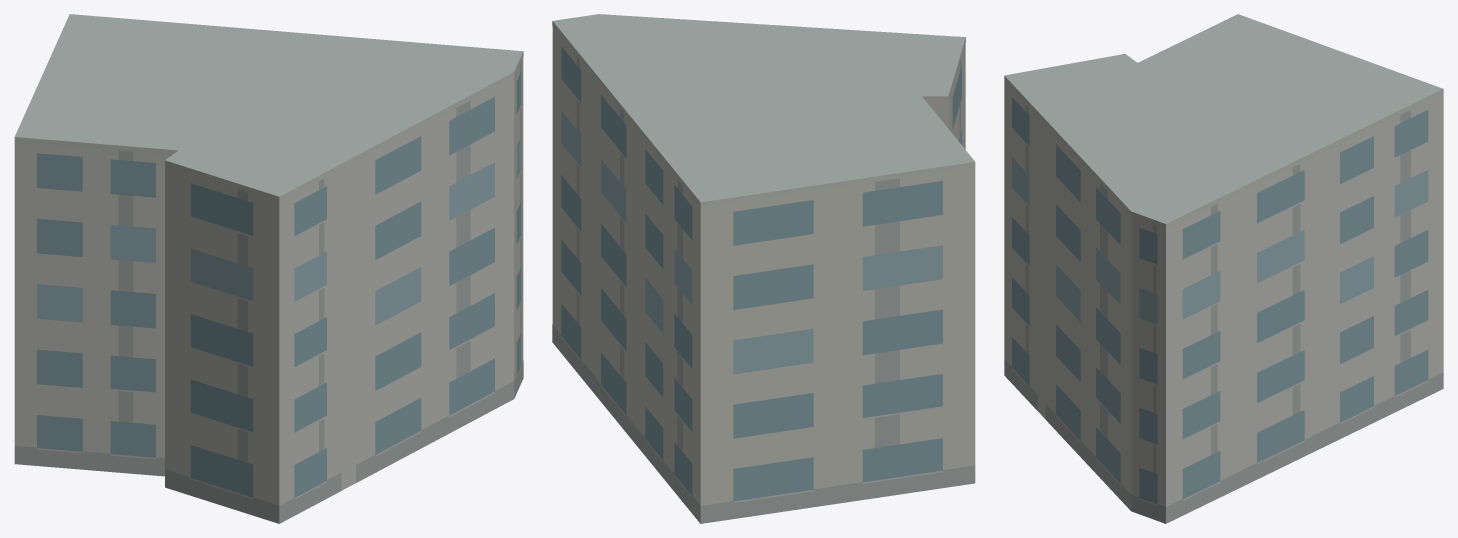
Rendered from survey-upis-32568048.glb.
3 views of the same model, side by side, from view 1: azimuth 30°, elevation 25°; view 2: azimuth 150°, elevation 25°; view 3: azimuth 270°, elevation 25° (orthographic). The views are drawn at different scales.
Visible parts, largest first — view 1: survey-upis-32568048.tmp; view 2: survey-upis-32568048.tmp; view 3: survey-upis-32568048.tmp.
Part boxes in pixels (left/top/right/bottom): survey-upis-32568048.tmp: left=14, top=14, right=523, bottom=523; survey-upis-32568048.tmp: left=552, top=14, right=975, bottom=523; survey-upis-32568048.tmp: left=1004, top=14, right=1443, bottom=523.
Bounding box in the file's own units: 22.16 × 14.75 × 19.6.
